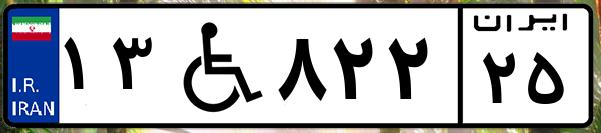1: (57, 26, 110, 100)
2: (385, 28, 445, 110), (330, 28, 385, 110), (475, 38, 525, 113)
3: (110, 28, 158, 98)
5: (525, 38, 570, 115)
8: (270, 28, 330, 110)
ژ (معلولین و جانبازان): (158, 12, 270, 120)
